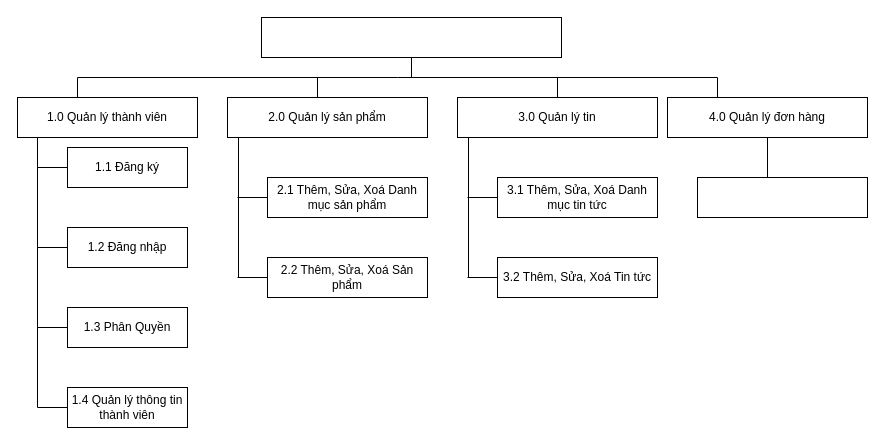
Image size: 885x445. Some labels were removed from this diagram. The centre of each missing label's shape, as x and y in pixels:
"0.0 Cửa hàng mỹ phẩm trục tuyến C13 Cosmetics" belongs at point 411,37.
"4.1 Thêm, Sửa, Xoá, Duyệt đơn hàng" belongs at point 782,197.
